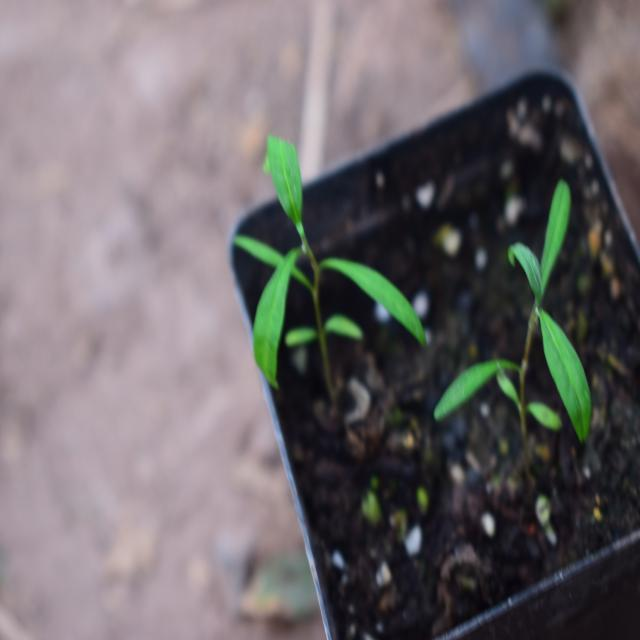white_smart_weed: (431, 156, 618, 450), (221, 115, 414, 382)
